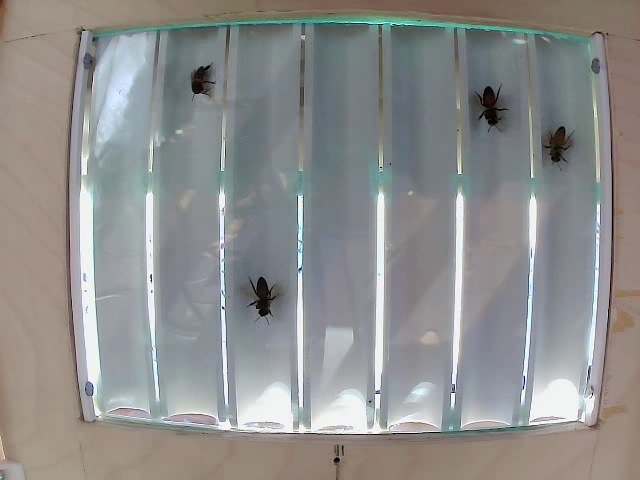bee: (240, 275, 285, 321), (184, 64, 225, 111), (472, 83, 502, 129), (540, 112, 559, 157)
